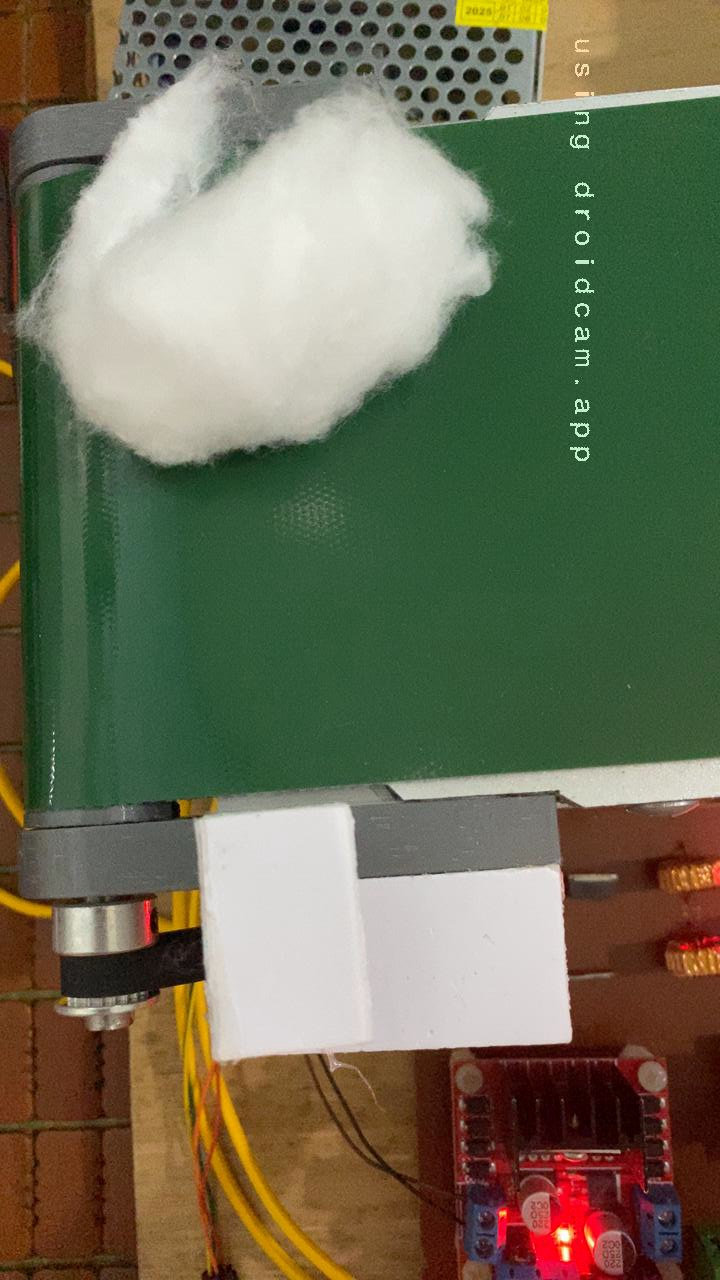cotton: (0, 124, 500, 784)
